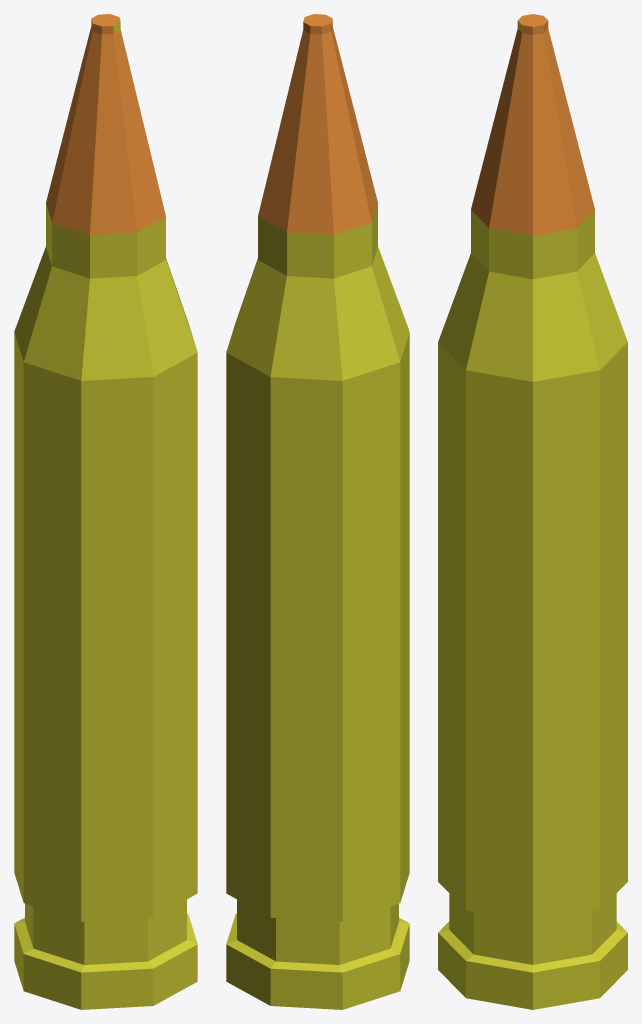
The model's file is Bullet.fbx.
3 renders of one model, left to right at view 1: azimuth 30°, elevation 25°; view 2: azimuth 150°, elevation 25°; view 3: azimuth 270°, elevation 25°, orthographic.
Parts seen in each view (by area): view 1: Cylinder; view 2: Cylinder; view 3: Cylinder.
Boxes of the visible parts, x1=… form: Cylinder: x1=14, y1=14, x2=197, y2=1009; Cylinder: x1=226, y1=14, x2=409, y2=1009; Cylinder: x1=438, y1=14, x2=627, y2=1009.
Bounding box in the file's own units: 46 × 254 × 46.
